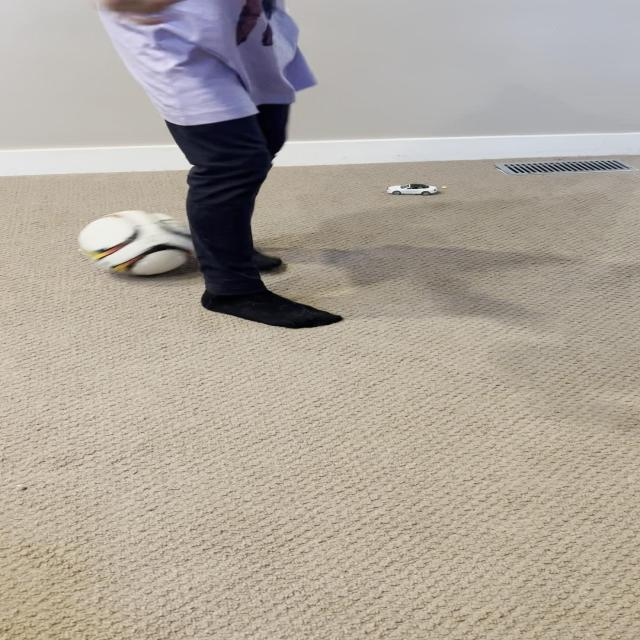Soccer Ball: (77, 209, 198, 276)
